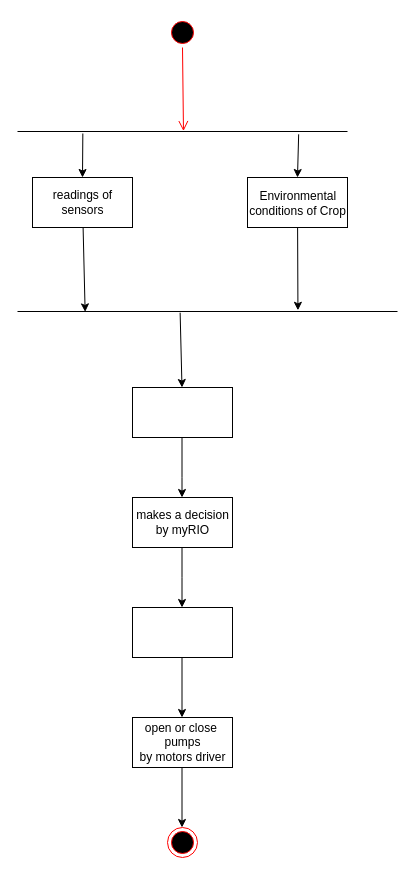
The diagram is 415 pixels wide and 875 high, and some of its shapes have lost their labels. Each missing label, with the centre of its shape:
"send order to motors drivers" belongs at pixel 182 632.
"send to control myRIO" belongs at pixel 182 412.
